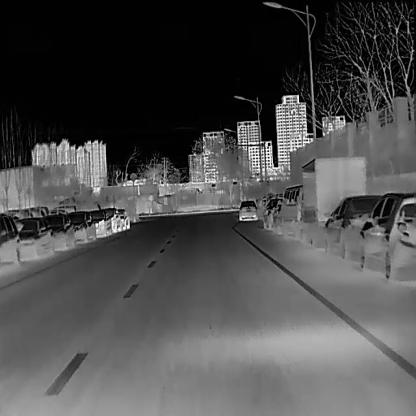car: (356, 193, 416, 281), (322, 194, 379, 258), (14, 215, 53, 261), (276, 183, 304, 240), (41, 212, 74, 250), (0, 212, 20, 262), (67, 210, 95, 242), (89, 209, 111, 237), (103, 206, 123, 232), (261, 197, 276, 230), (238, 199, 258, 220), (116, 207, 129, 230)
truck: (295, 155, 366, 250)
